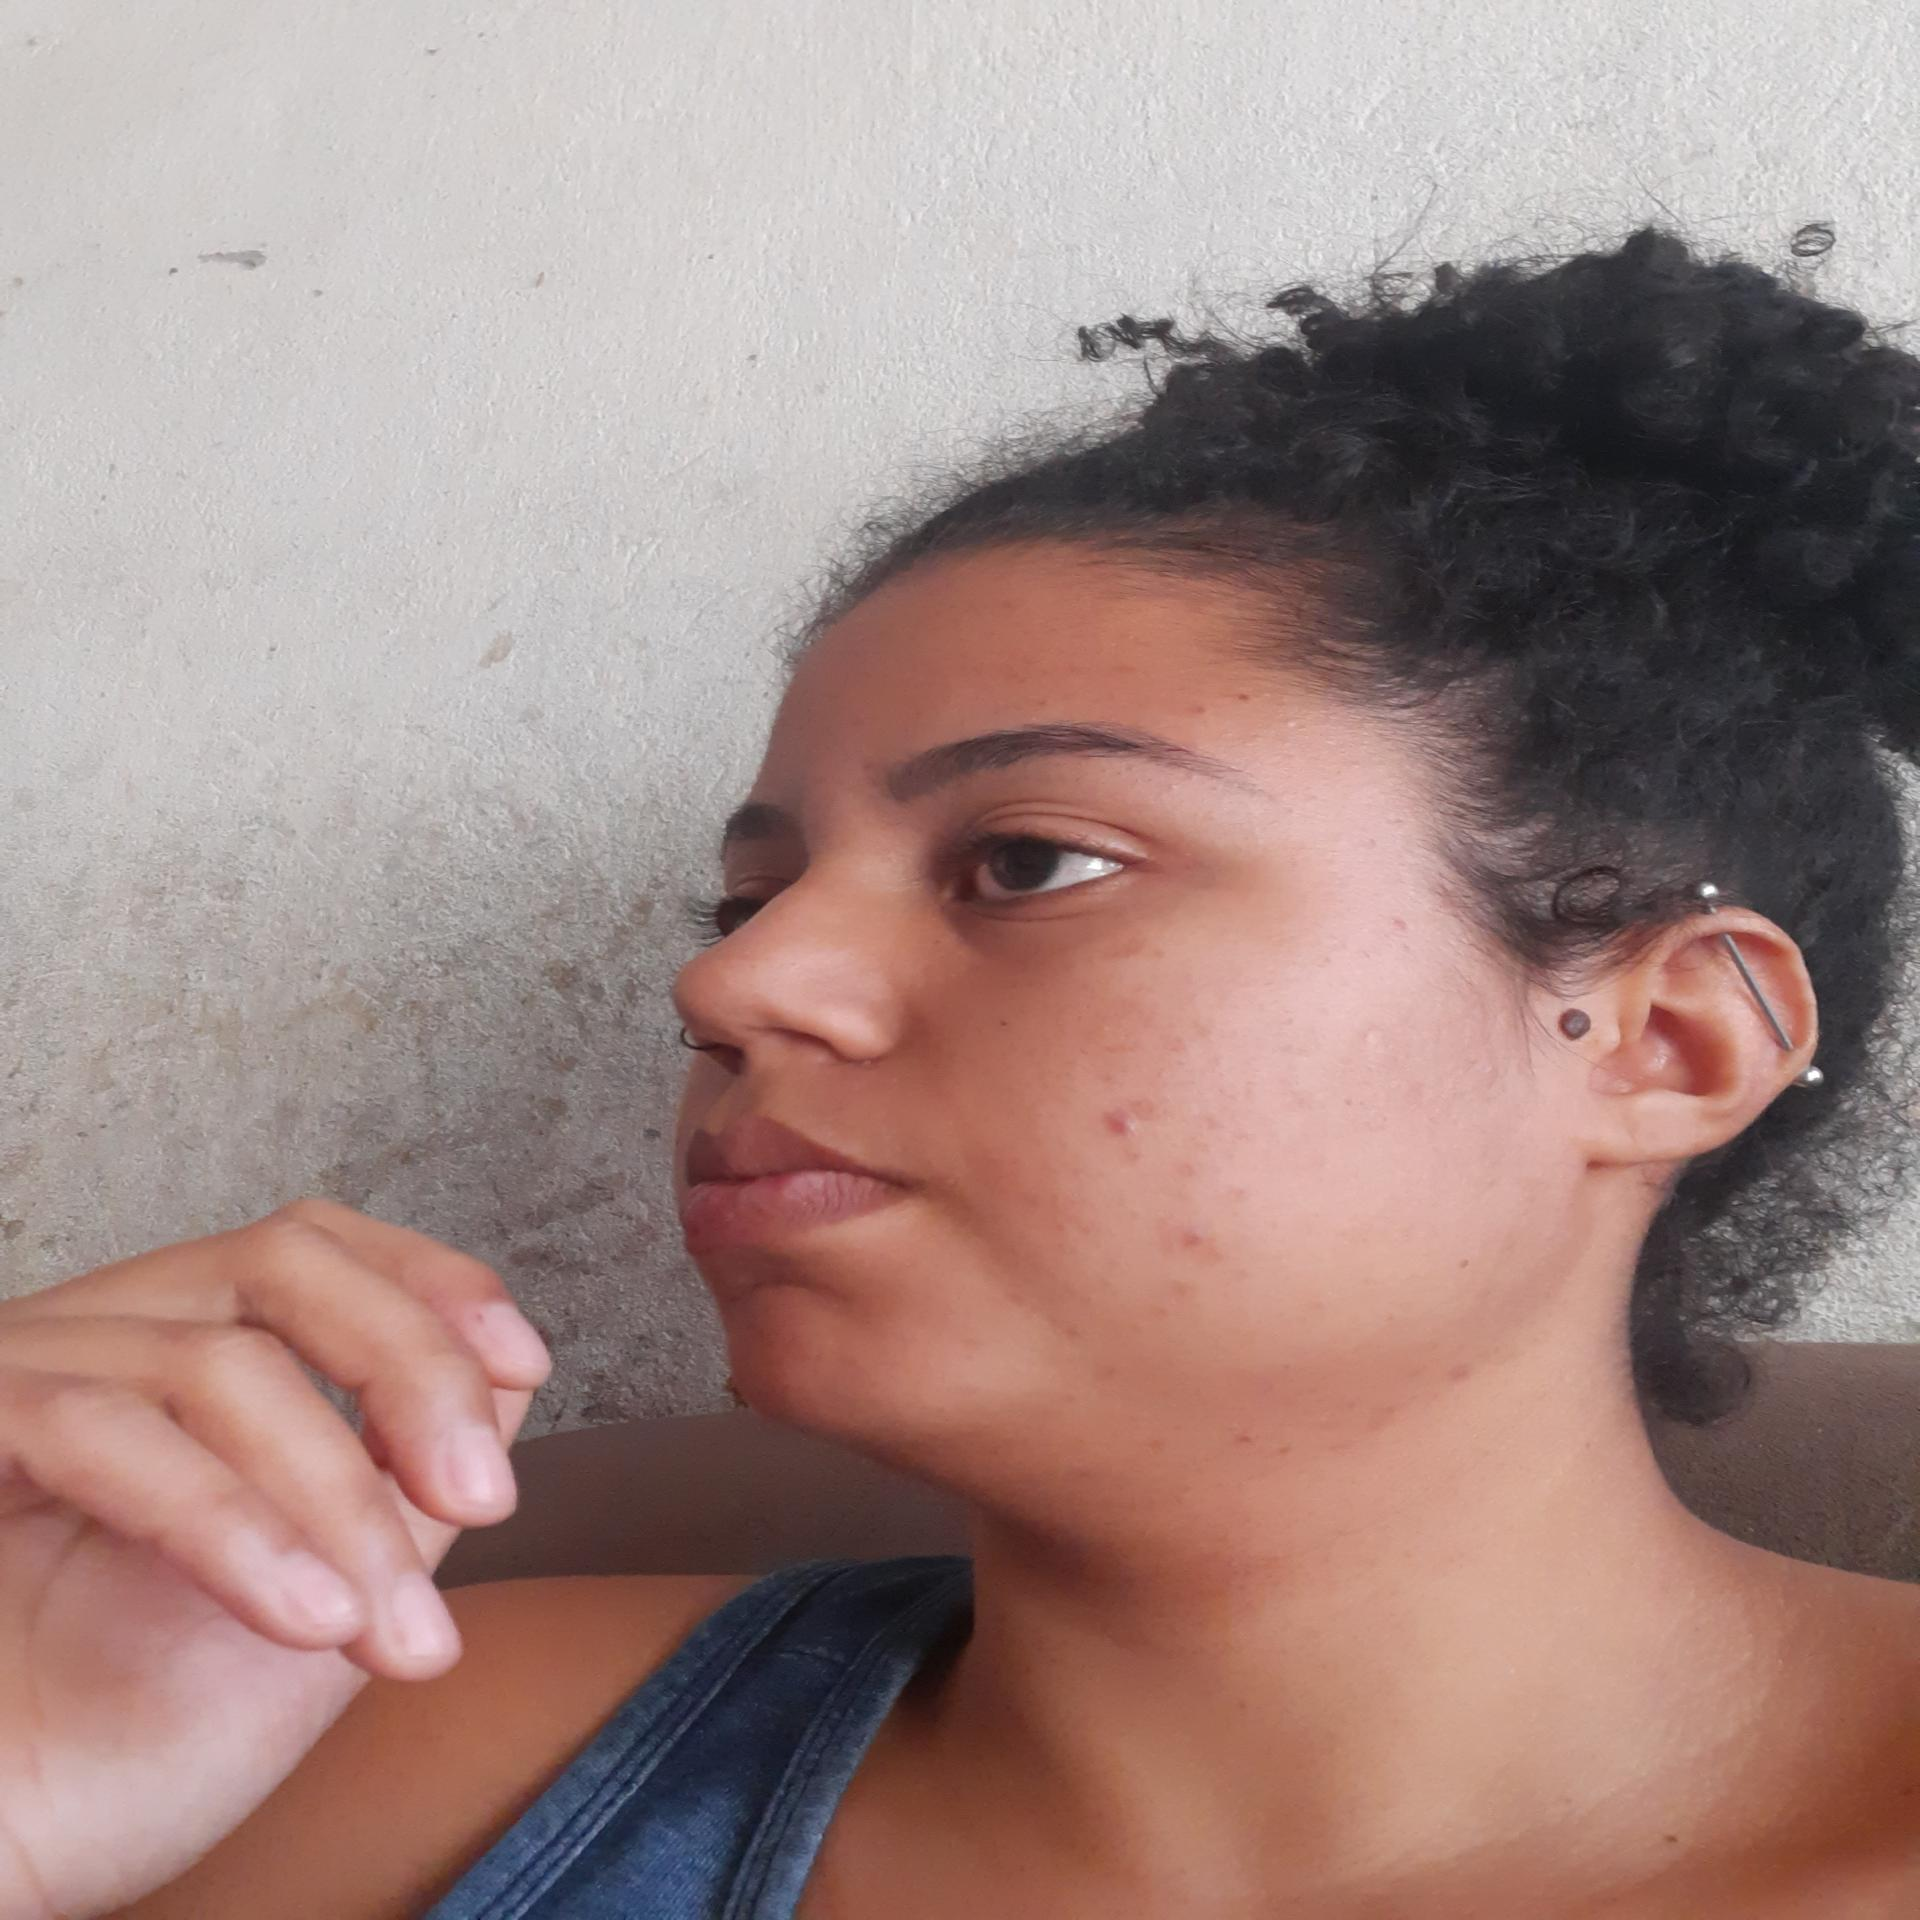Acne: (1094, 1095, 1166, 1141), (956, 1329, 1000, 1361), (1398, 1076, 1429, 1118), (1442, 1357, 1484, 1389), (1043, 1315, 1090, 1343), (1371, 913, 1412, 944), (1148, 1218, 1199, 1243), (1102, 937, 1155, 960), (1203, 1113, 1240, 1143), (1065, 1458, 1097, 1489), (835, 1350, 872, 1377), (993, 1287, 1039, 1308), (1197, 1233, 1225, 1264), (1162, 1036, 1197, 1060), (1164, 1278, 1199, 1303), (1143, 1429, 1167, 1463), (1356, 1022, 1384, 1050), (1118, 1143, 1148, 1167), (1016, 1185, 1050, 1206), (1094, 1359, 1116, 1389), (1173, 1157, 1204, 1176), (1224, 1182, 1248, 1203), (1234, 1428, 1262, 1445), (1276, 1438, 1298, 1459), (1192, 1022, 1215, 1039), (1108, 661, 1139, 673), (1190, 698, 1206, 717)
